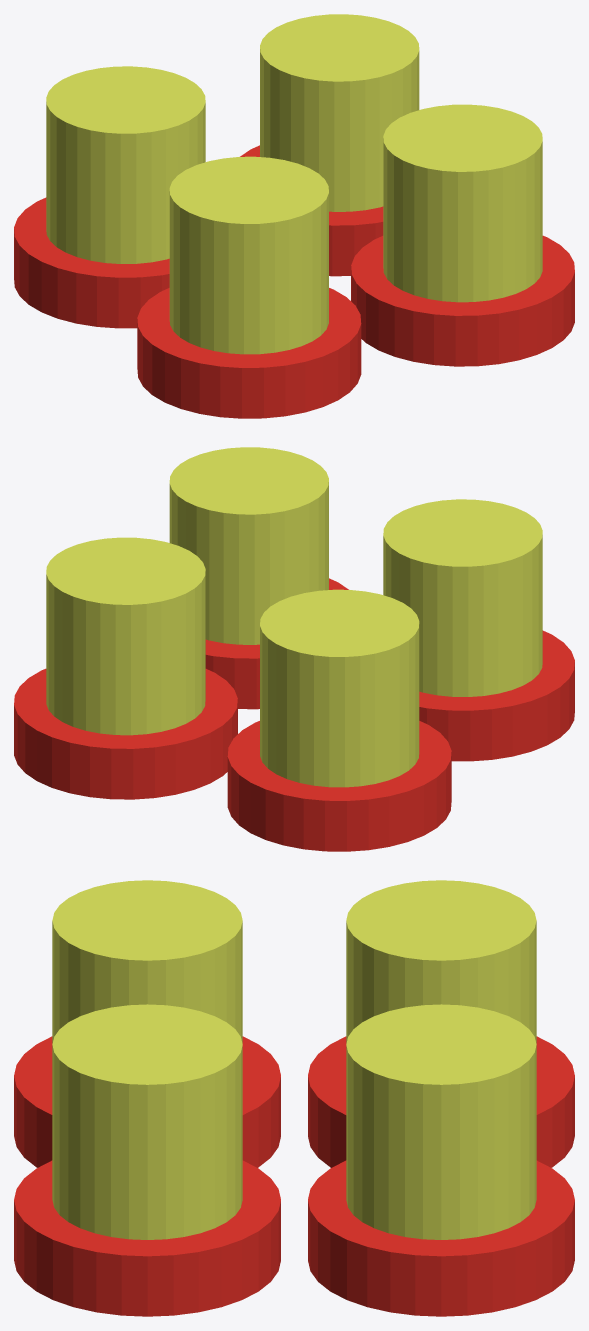
The model's file is gun_ammo.fbx.
The picture shows the model from 3 angles, top to bottom: view 1: azimuth 30°, elevation 25°; view 2: azimuth 150°, elevation 25°; view 3: azimuth 270°, elevation 25°; orthographic projection. The views are drawn at different scales.
Parts seen in each view (by area): view 1: Cylinder; view 2: Cylinder; view 3: Cylinder.
Part boxes in pixels (x1,y1,x2,y2): Cylinder: (14,14,574,418); Cylinder: (14,447,574,851); Cylinder: (14,880,574,1316).
Bounding box in the file's own units: 590 × 250 × 590.
